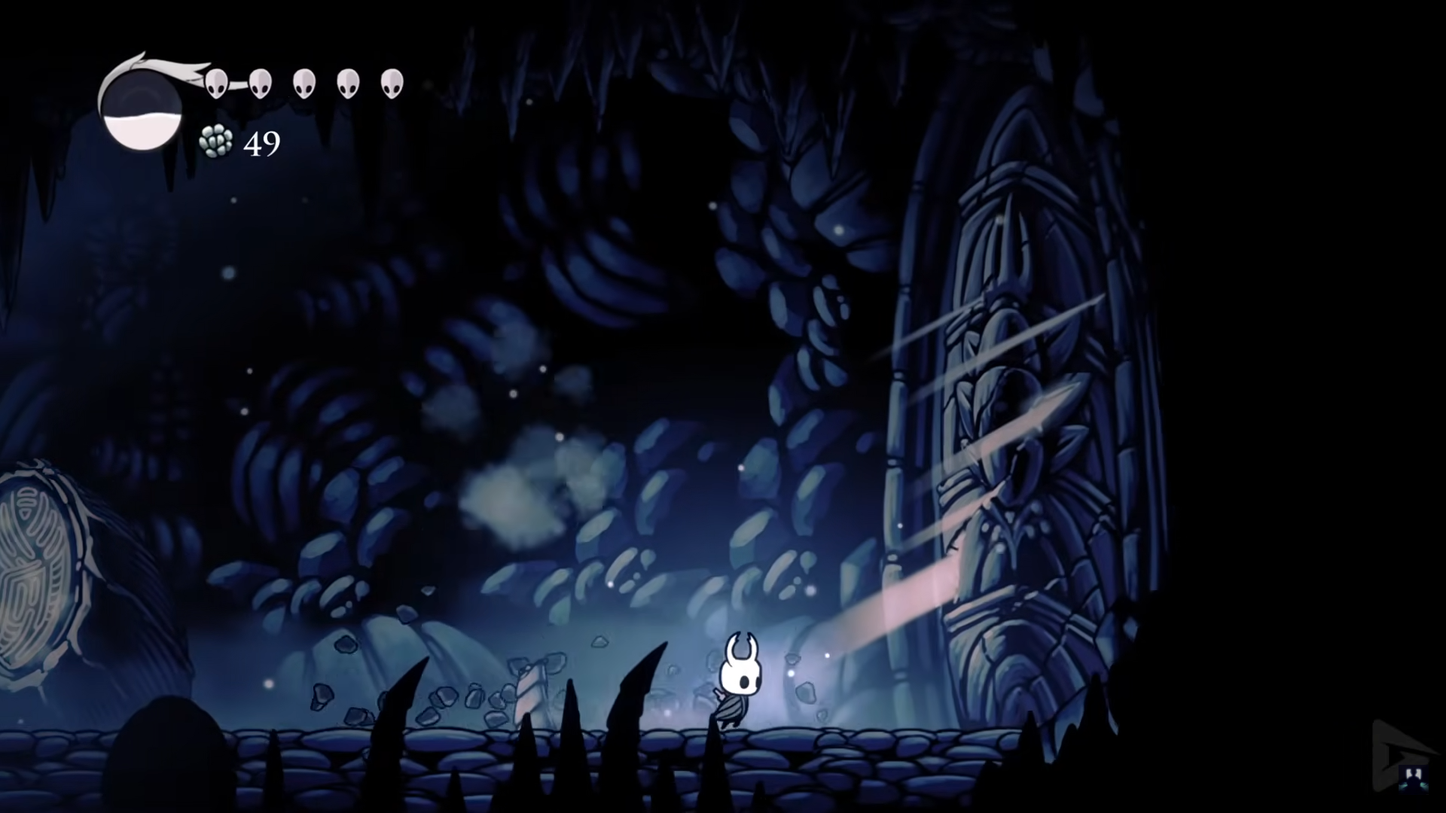HK: (709, 627, 767, 731)
